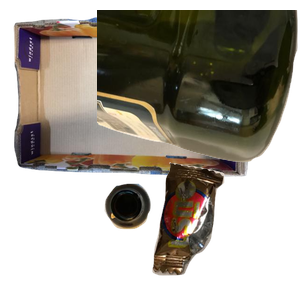cardboard: (11, 13, 251, 182)
glass: (102, 181, 246, 300)
plastic: (97, 10, 300, 165)
trash: (150, 160, 300, 300)
